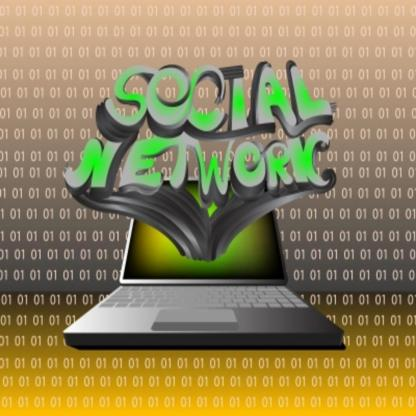board: (73, 194, 350, 353)
